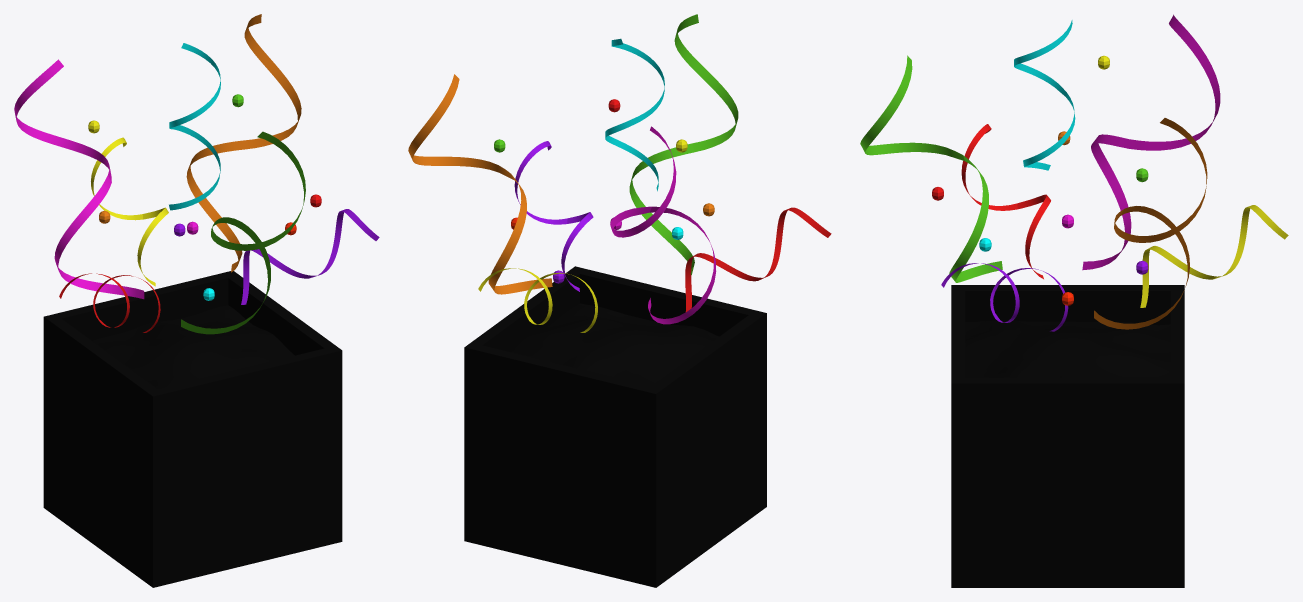
File: red_box.fbx
3 renders of one model, left to right at view 1: azimuth 30°, elevation 25°; view 2: azimuth 150°, elevation 25°; view 3: azimuth 270°, elevation 25°, orthographic. The views are drawn at different scales.
Visible parts, largest first — view 1: scatola_rossa, Coriandolo1; view 2: scatola_rossa, Coriandolo1; view 3: scatola_rossa, Coriandolo1.
Boxes of the visible parts, x1,y1,x2,y2 form: scatola_rossa: [43, 271, 342, 587]; Coriandolo1: [14, 14, 379, 334]; scatola_rossa: [464, 266, 766, 587]; Coriandolo1: [408, 14, 831, 332]; scatola_rossa: [951, 285, 1184, 587]; Coriandolo1: [860, 14, 1288, 331].
Size of the model in its own units: 1.71 by 2.44 by 1.84.
2 materials, 1 textured.
